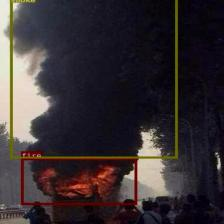fire: (21, 158, 136, 204)
smoke: (10, 0, 177, 158)
